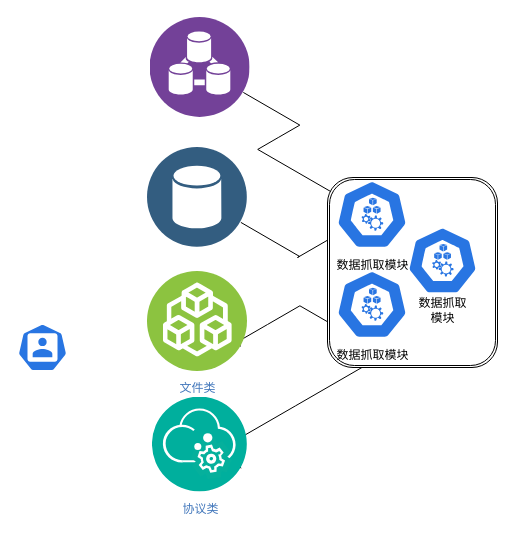
Image size: 515x533. Some labels were removed from this diagram. Here are the shapes that lost their labels. From the top down, the centre of each, then its label:
At (200,67): "数据接口".
At (197,197): "数据库".
